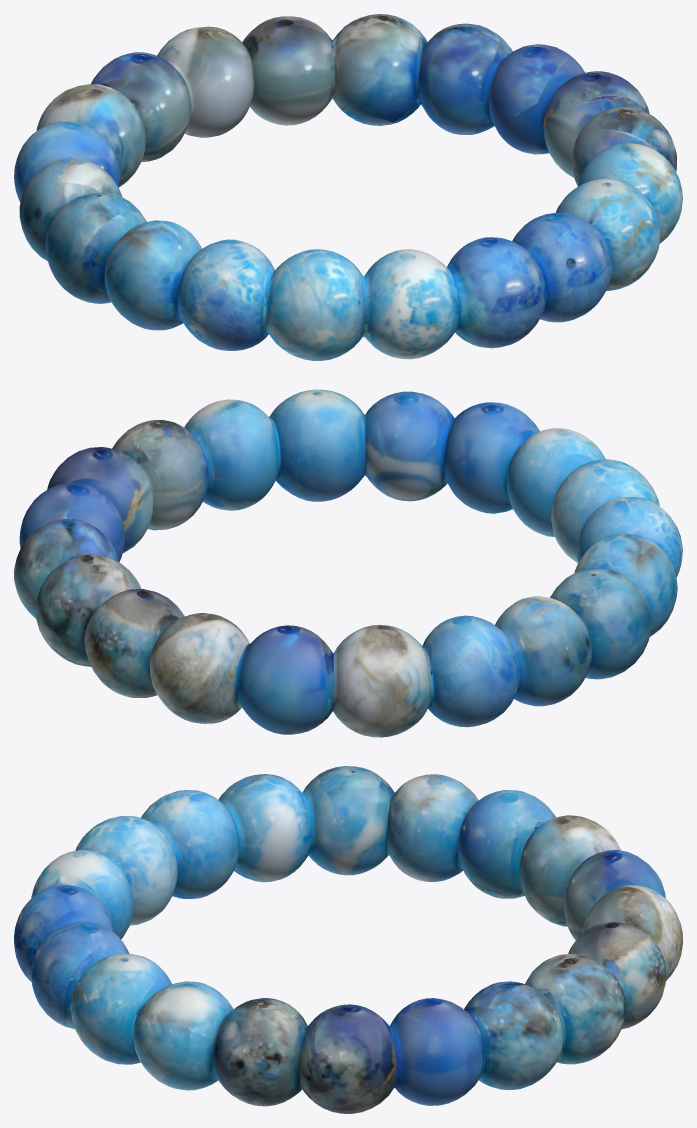
The model's file is Blue_Stone_Bracelet_0510194457_texture.glb.
3 renders of one model, top to bottom at view 1: azimuth 30°, elevation 25°; view 2: azimuth 150°, elevation 25°; view 3: azimuth 270°, elevation 25°, orthographic.
Size of the model in its own units: 2 by 0.3342 by 2.
Materials: 1 (1 with a texture image).
